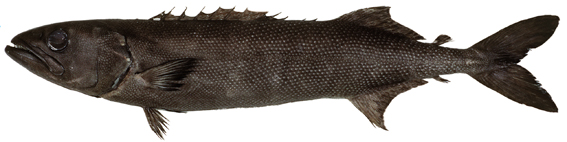fish: (4, 4, 561, 140)
